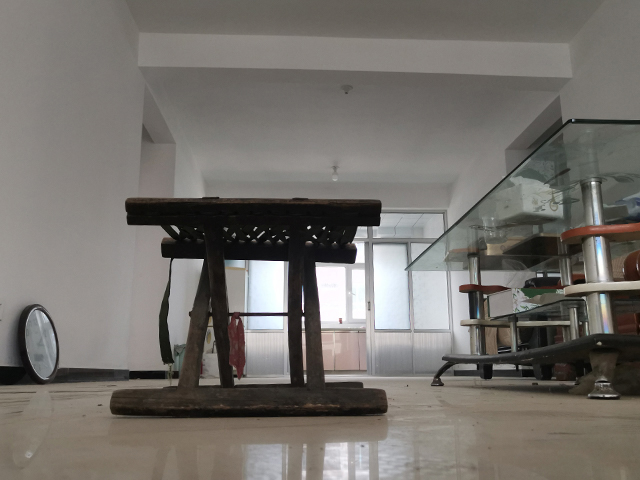stool: (108, 195, 389, 419)
table: (402, 115, 640, 401)
